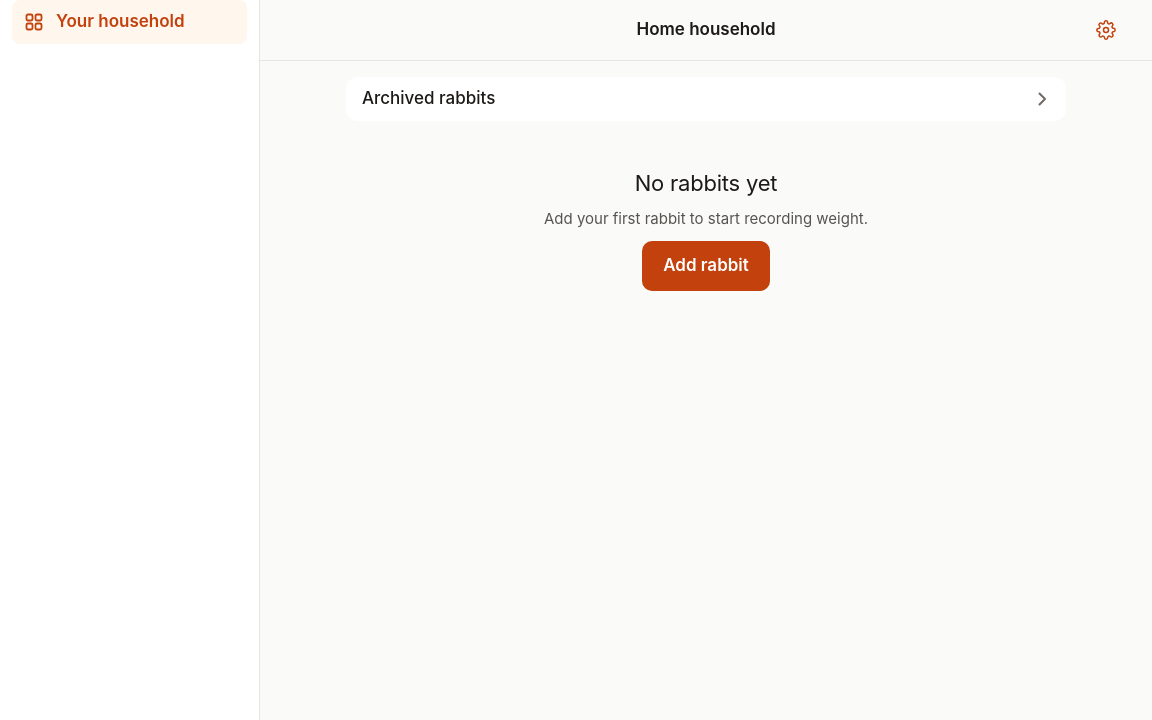
reaches the archived list from the empty dashboard
expect the element that starts with "Home household" is shown: met, box [260,0,1151,291]
expect the heading "No rabbits yet" is shown: met, box [635,169,777,197]
What coordinates should you click on to do the following:
click the button "Archived rabbits"
I would click on:
 (429, 98)
Its box is [346,77,1066,121].
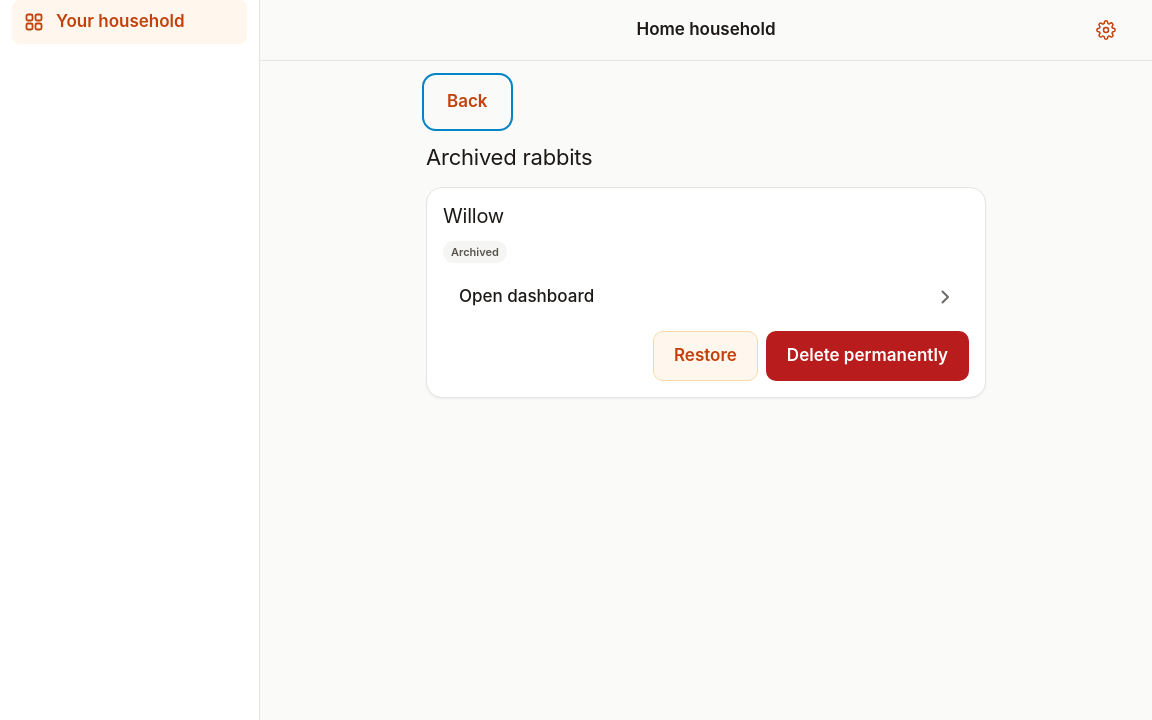
expect the heading "Willow" is shown: met, box [443,204,504,228]
expect the heading "Archived rabbits" is shown: met, box [426,144,592,170]
